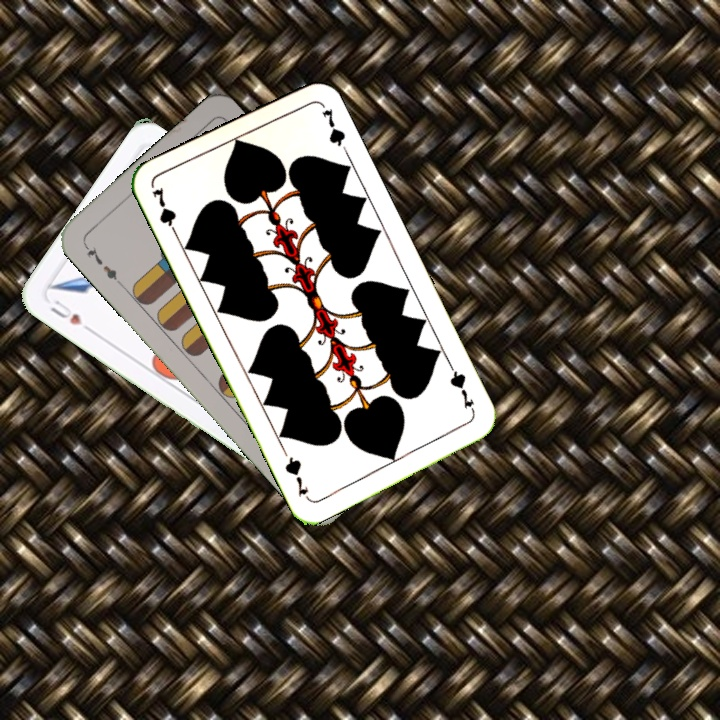E7: (80, 240, 125, 288)
G7: (148, 183, 181, 240), (445, 362, 478, 417)
HU: (46, 295, 85, 328)
